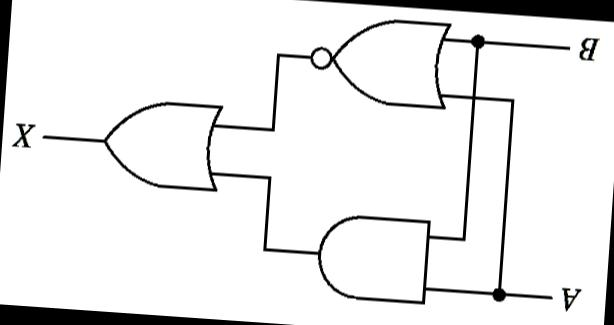and: (308, 207, 435, 310)
nor: (301, 5, 456, 116)
or: (95, 92, 230, 196)
